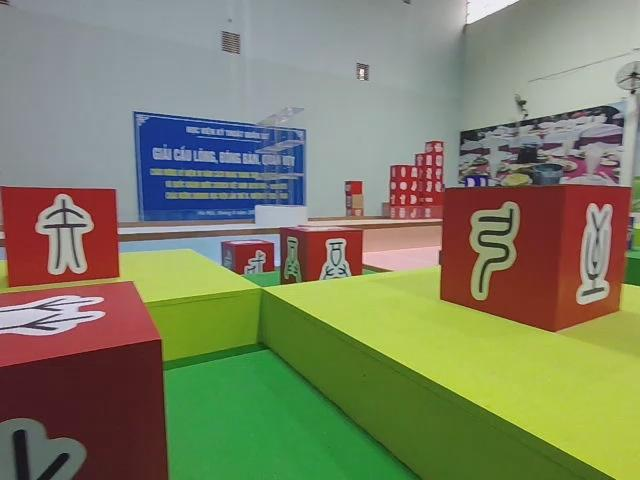R2 Fake: (438, 181, 629, 337), (0, 183, 124, 290)
R2 Real: (0, 279, 171, 480), (279, 222, 362, 293), (220, 237, 275, 279)
